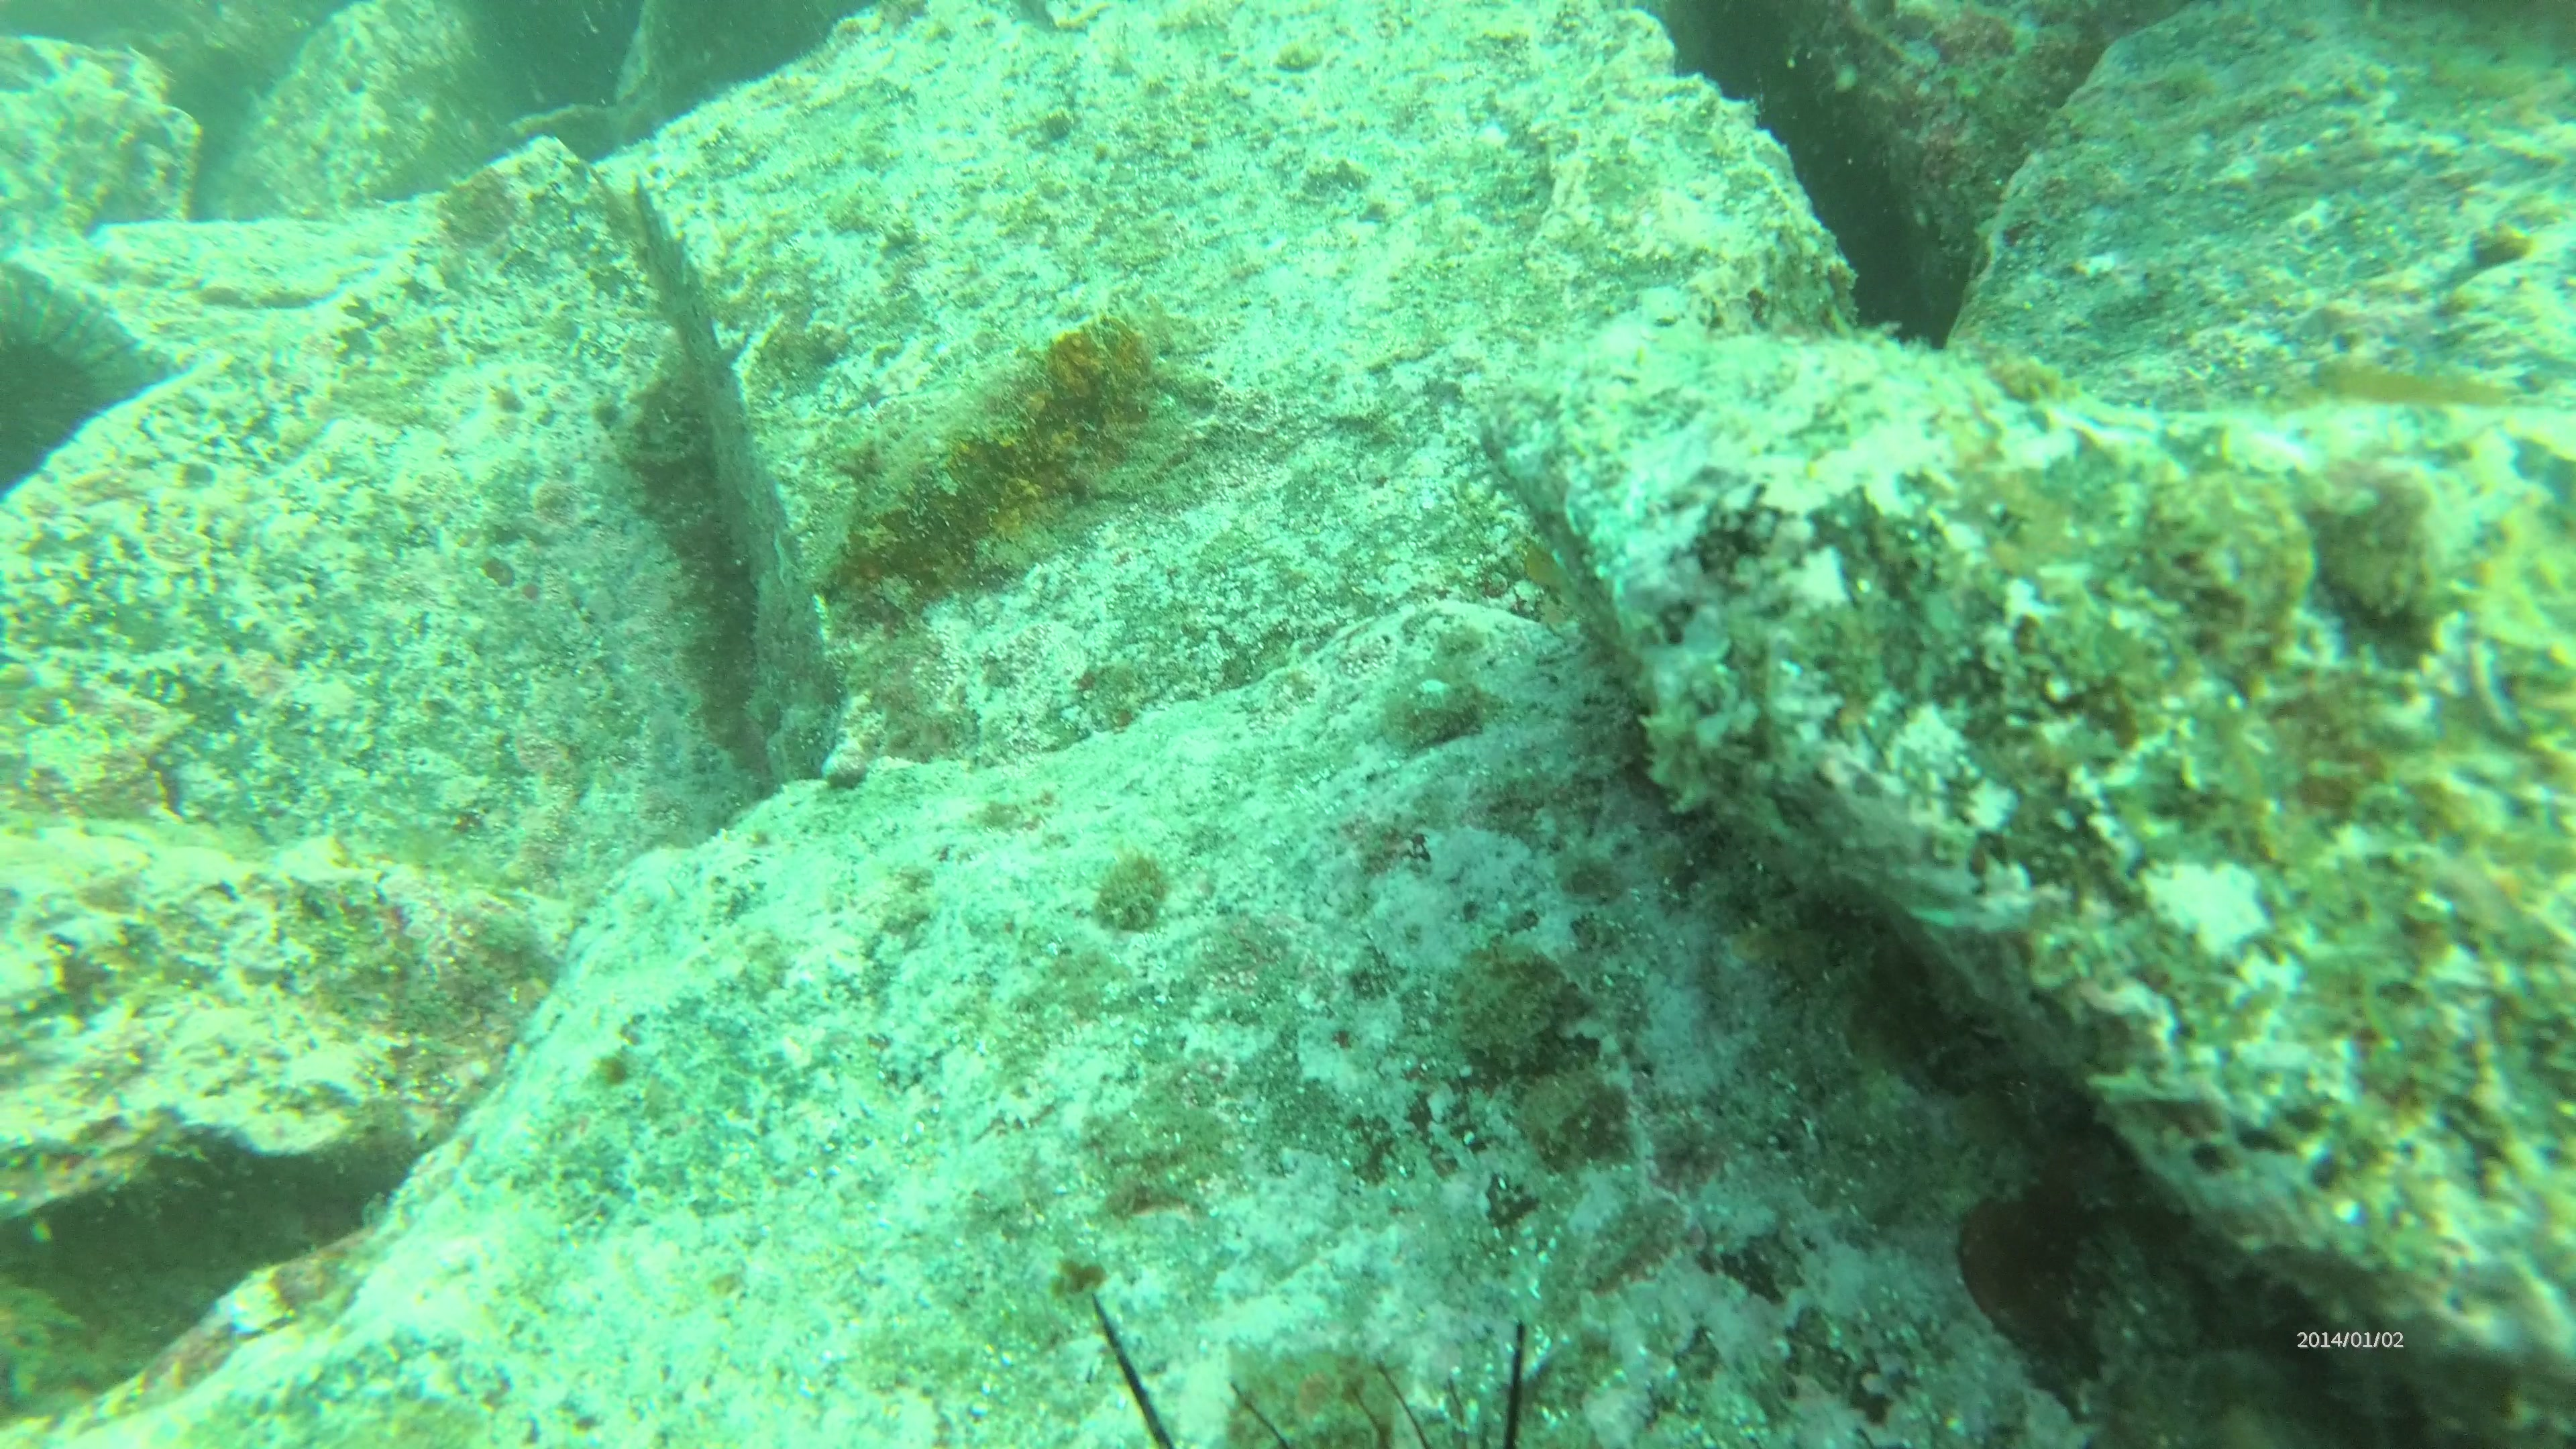echinus: (5, 285, 134, 515)
